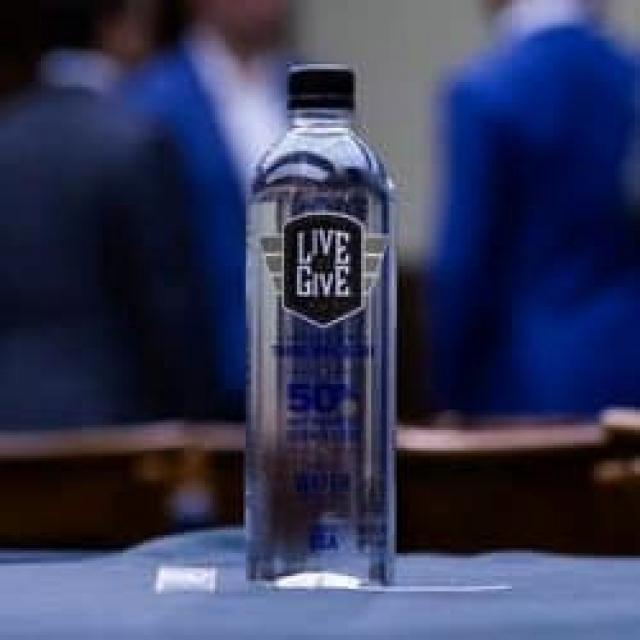bottle: (246, 63, 399, 593)
